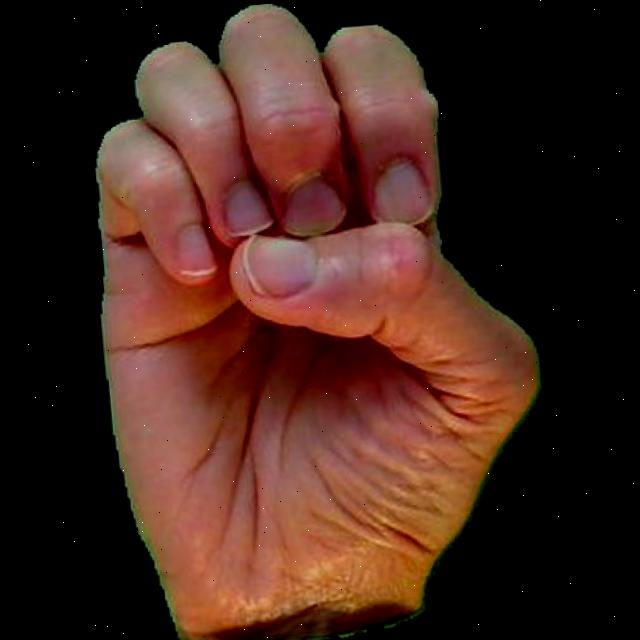e: (47, 0, 574, 640)
